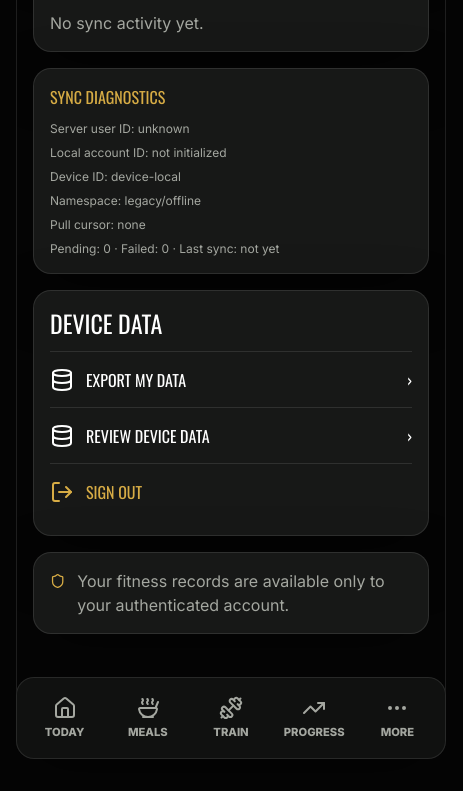
Test: Phase 4 auth and sync screens › labels malformed device data safely in review
(page scrolled)
Click the button "Review Device Data ›": (148,436) x1=50 y1=407 x2=412 y2=463
(page scrolled)
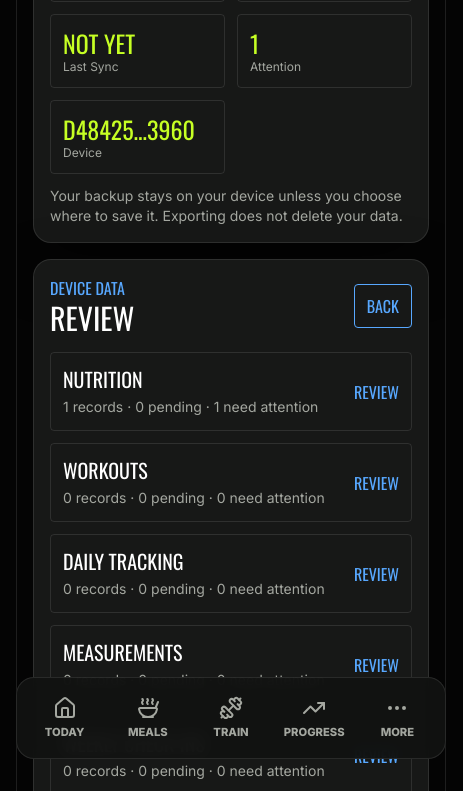
Click the button "Nutrition1 records · 0 pending · 1 need attention Review": (103,379) x1=63 y1=365 x2=399 y2=418
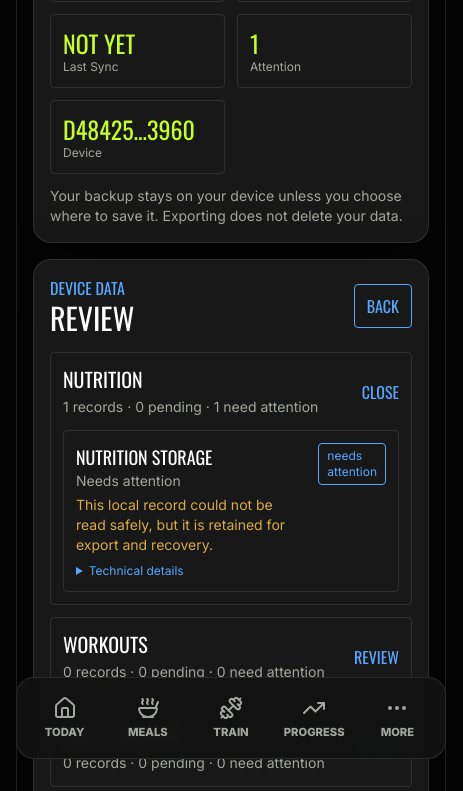
Now the text "could not be read safely" is shown, box x1=76 y1=496 x2=285 y2=553
